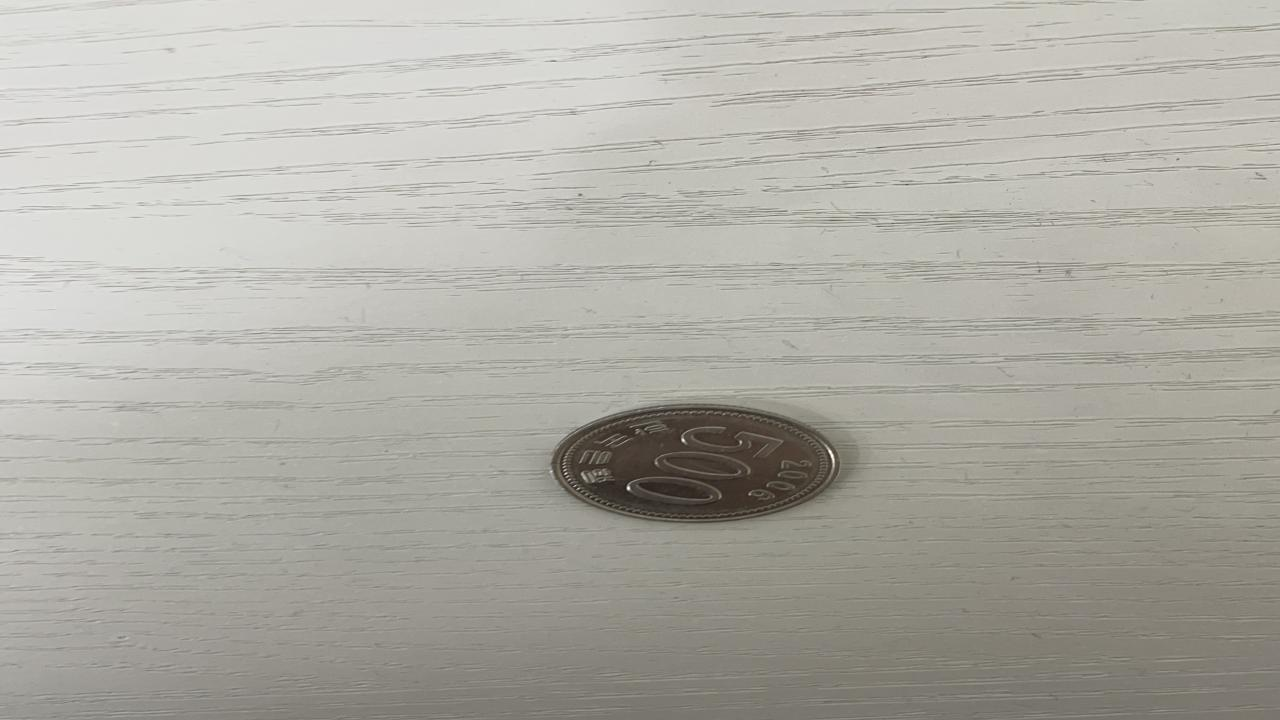coin: (552, 406, 842, 520)
